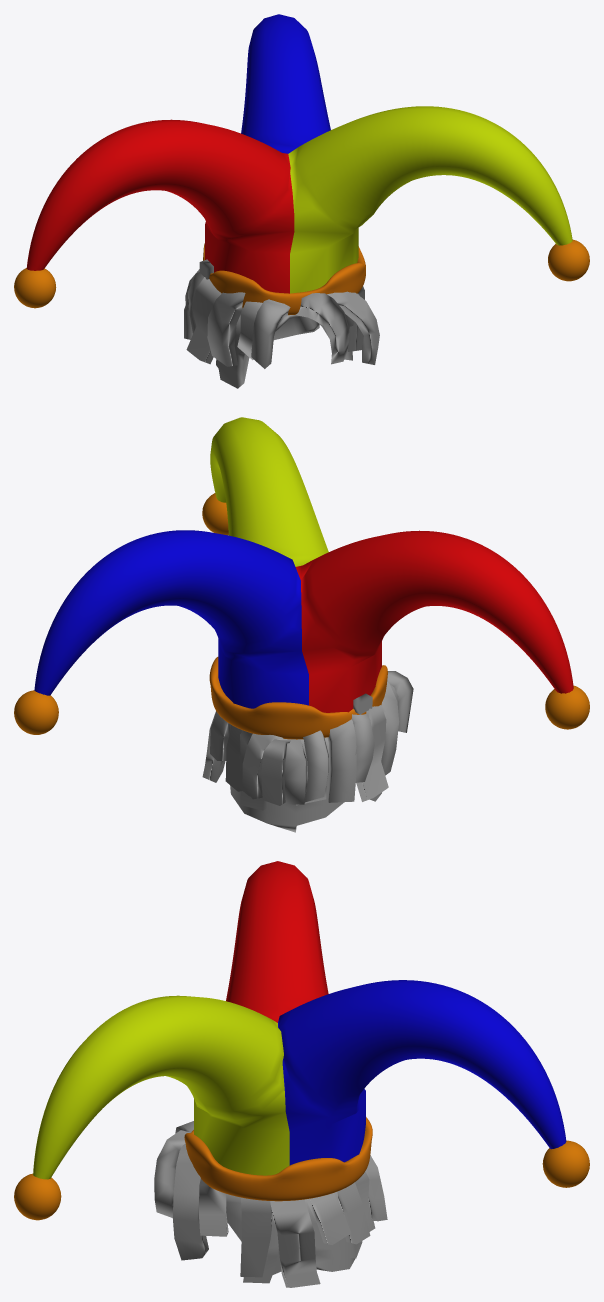
3 renders of one model, top to bottom at view 1: azimuth 30°, elevation 25°; view 2: azimuth 150°, elevation 25°; view 3: azimuth 270°, elevation 25°, orthographic. The views are drawn at different scales.
Parts seen in each view (by area): view 1: Cylinder, Handle1; view 2: Cylinder, Handle1; view 3: Cylinder, Handle1.
Boxes of the visible parts, <box> form: Cylinder: <box>14,14,589,315</box>; Handle1: <box>184,259,379,388</box>; Cylinder: <box>14,417,589,739</box>; Handle1: <box>202,671,413,832</box>; Cylinder: <box>14,861,589,1220</box>; Handle1: <box>154,1121,387,1287</box>.
Size of the model in its own units: 162 by 93.28 by 155.
